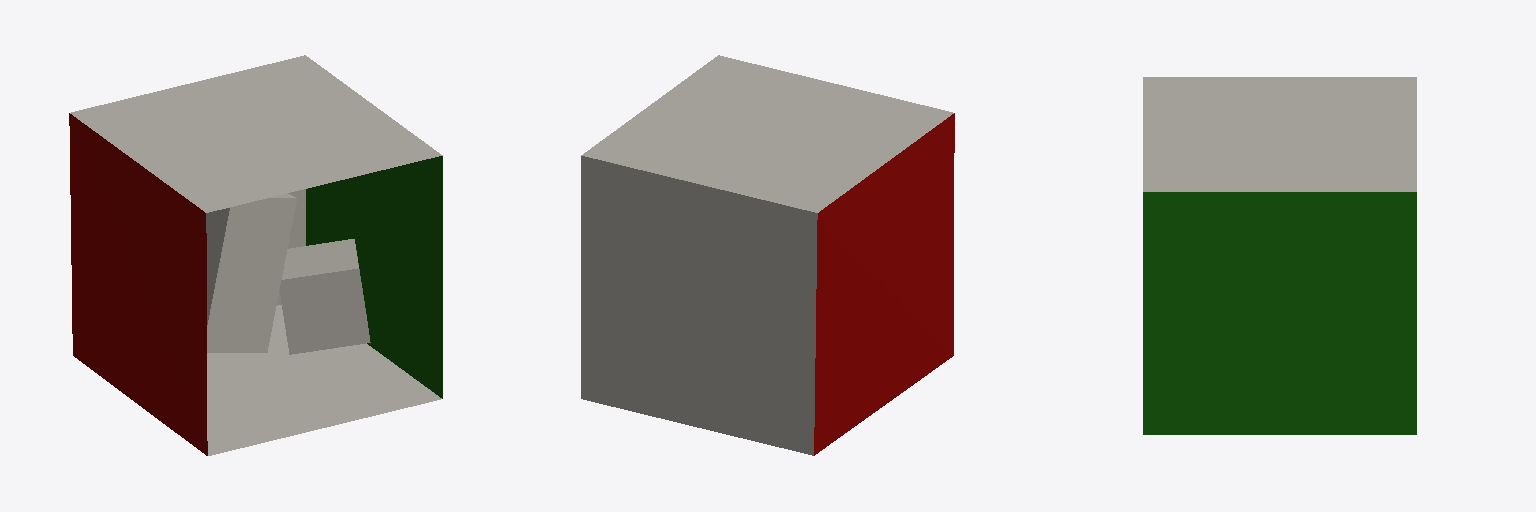
The model's file is randomCornellBox.obj.
3 views of the same model, side by side, from view 1: azimuth 30°, elevation 25°; view 2: azimuth 150°, elevation 25°; view 3: azimuth 270°, elevation 25° (orthographic).
Visible parts, largest first — view 1: leftWall, ceiling, rightWall, floor, tallBox, shortBox, backWall; view 2: backWall, leftWall, ceiling; view 3: rightWall, ceiling.
Part boxes in pixels (left/top/right/bottom): leftWall: left=69, top=113, right=207, bottom=455; ceiling: left=70, top=55, right=442, bottom=212; rightWall: left=306, top=156, right=442, bottom=398; floor: left=207, top=305, right=441, bottom=455; tallBox: left=206, top=193, right=296, bottom=352; shortBox: left=279, top=239, right=370, bottom=354; backWall: left=277, top=189, right=305, bottom=305; backWall: left=581, top=156, right=817, bottom=455; leftWall: left=814, top=113, right=954, bottom=455; ceiling: left=581, top=55, right=953, bottom=212; rightWall: left=1143, top=192, right=1416, bottom=434; ceiling: left=1143, top=77, right=1416, bottom=191.
Bounding box in the file's own units: 2.02 × 1.99 × 2.03.